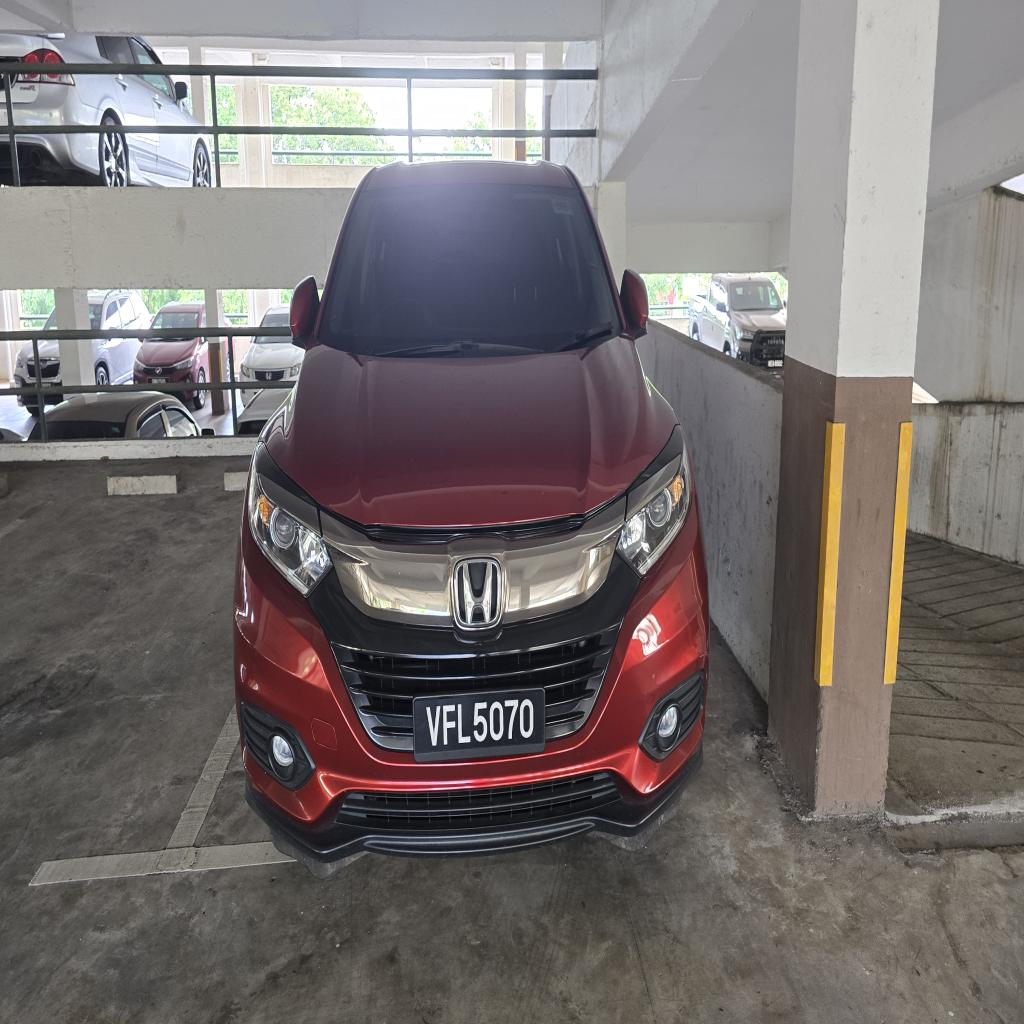car: (234, 162, 709, 875)
car plate: (413, 688, 545, 762)
